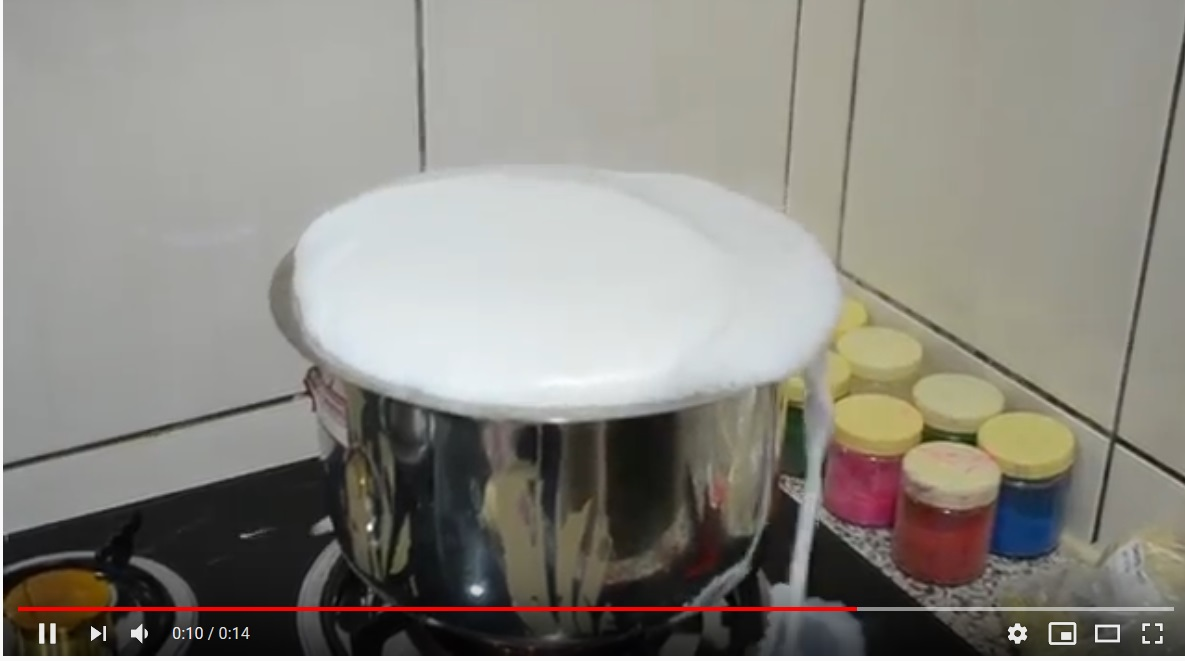Boiled: (240, 160, 836, 586)
